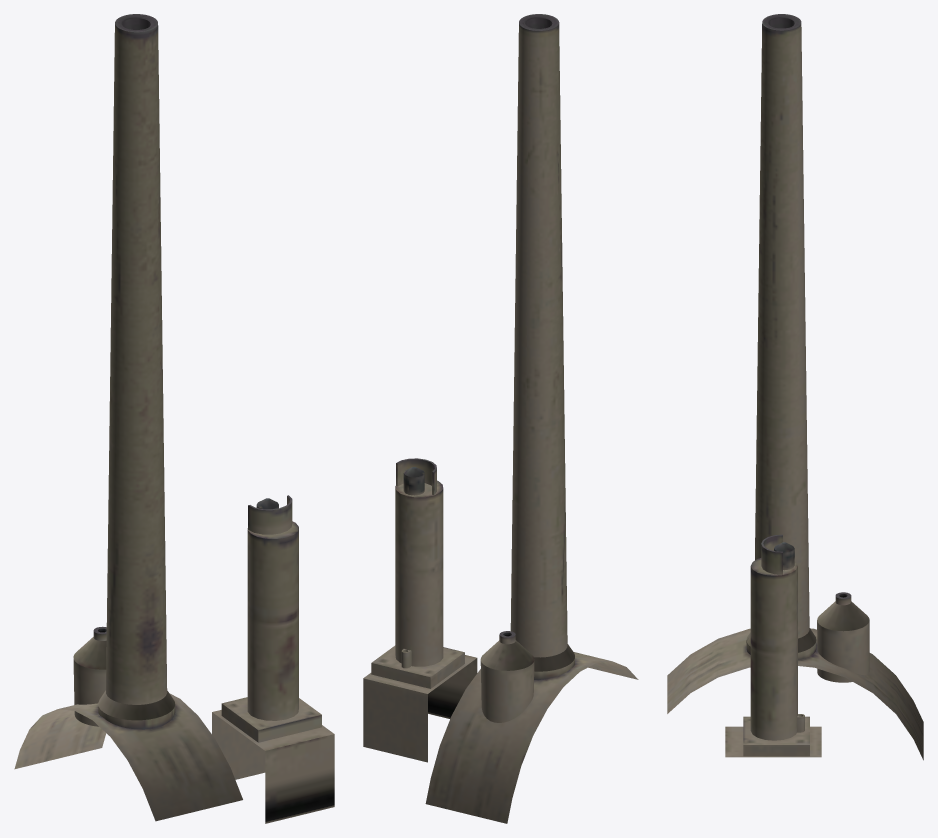
File: Gun_04.glb
The picture shows the model from 3 angles, left to right: view 1: azimuth 30°, elevation 25°; view 2: azimuth 150°, elevation 25°; view 3: azimuth 270°, elevation 25°; orthographic projection. The views are drawn at different scales.
Parts seen in each view (by area): view 1: set_0_group_0; view 2: set_0_group_0; view 3: set_0_group_0.
Boxes of the visible parts, x1,y1,x2,y2 form: set_0_group_0: [14, 14, 334, 823]; set_0_group_0: [363, 14, 638, 823]; set_0_group_0: [667, 14, 923, 760].
Bounding box in the file's own units: 0.5091 × 1.85 × 0.5905.
1 material, 1 textured.
